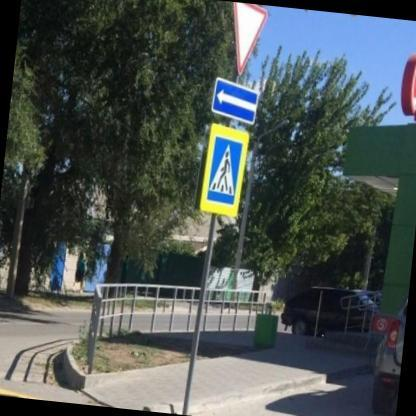road_sign: (198, 123, 251, 217), (232, 0, 269, 76), (209, 76, 261, 127)
